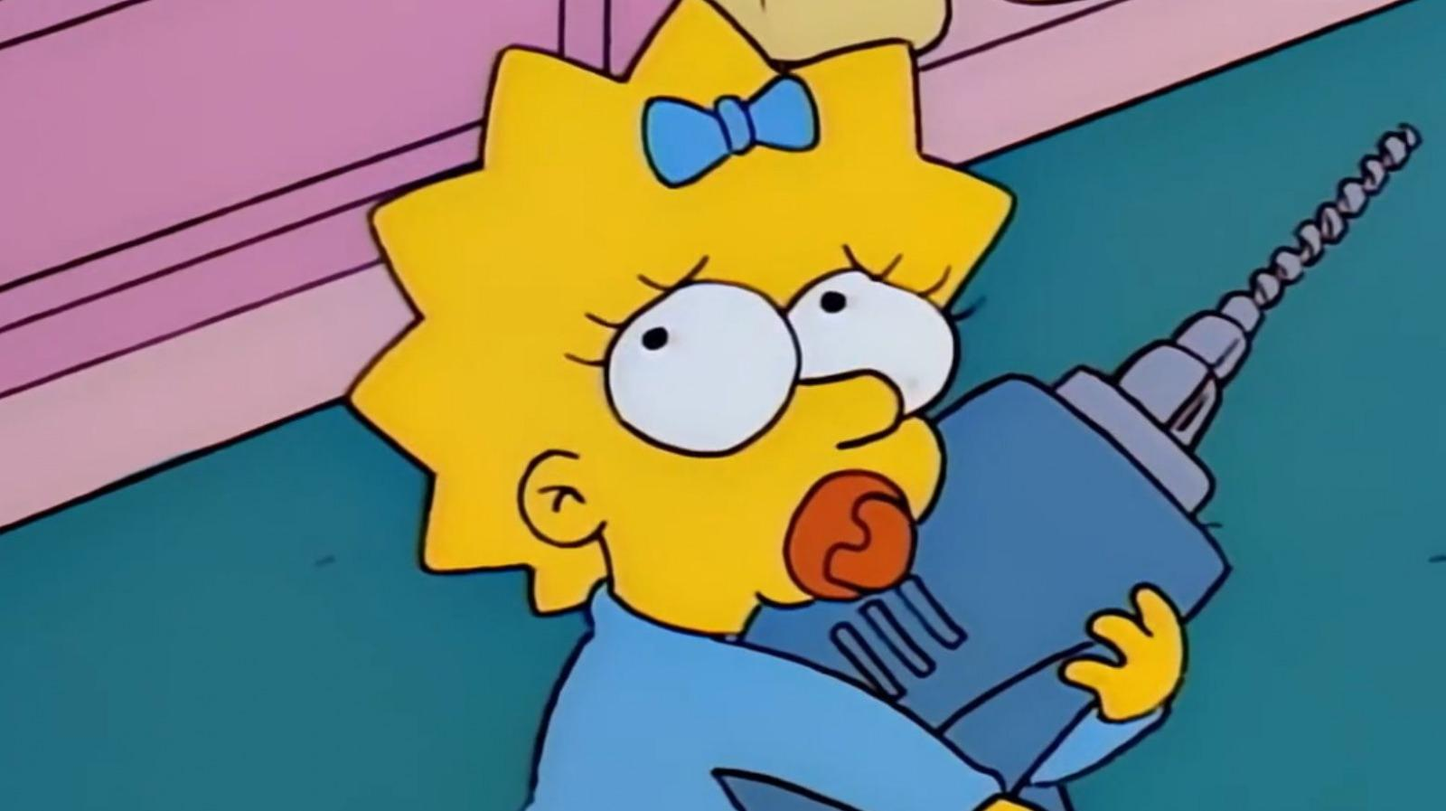Maggie: (315, 18, 1147, 811)
